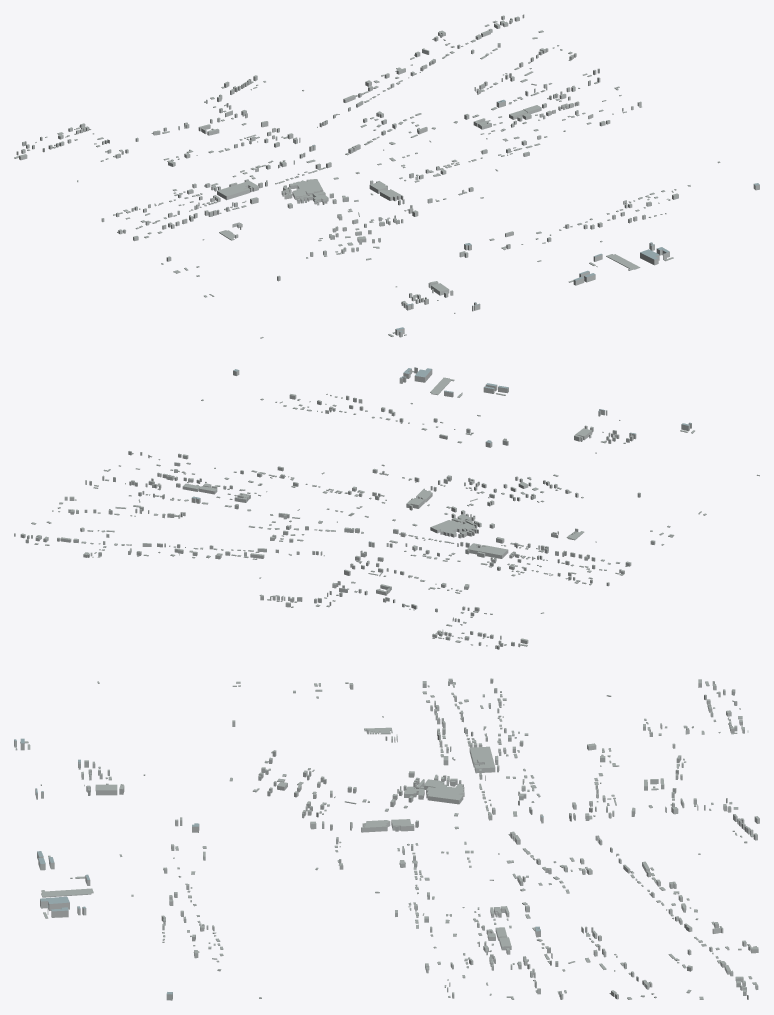
File: far.glb
3 renders of one model, top to bottom at view 1: azimuth 30°, elevation 25°; view 2: azimuth 150°, elevation 25°; view 3: azimuth 270°, elevation 25°, orthographic. The views are drawn at different scales.
Size of the model in its own units: 2106 by 23.25 by 2085.
